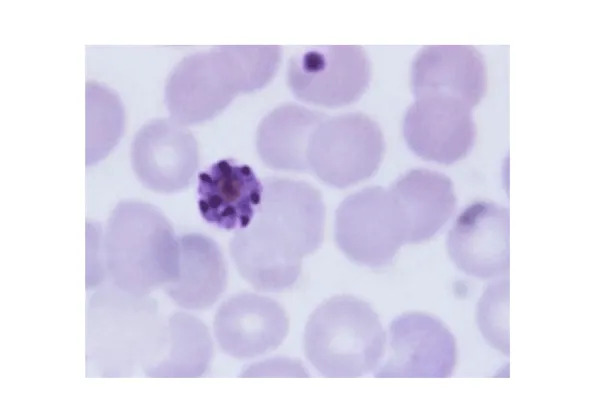Malaria: (194, 156, 262, 231), (300, 51, 327, 73)
